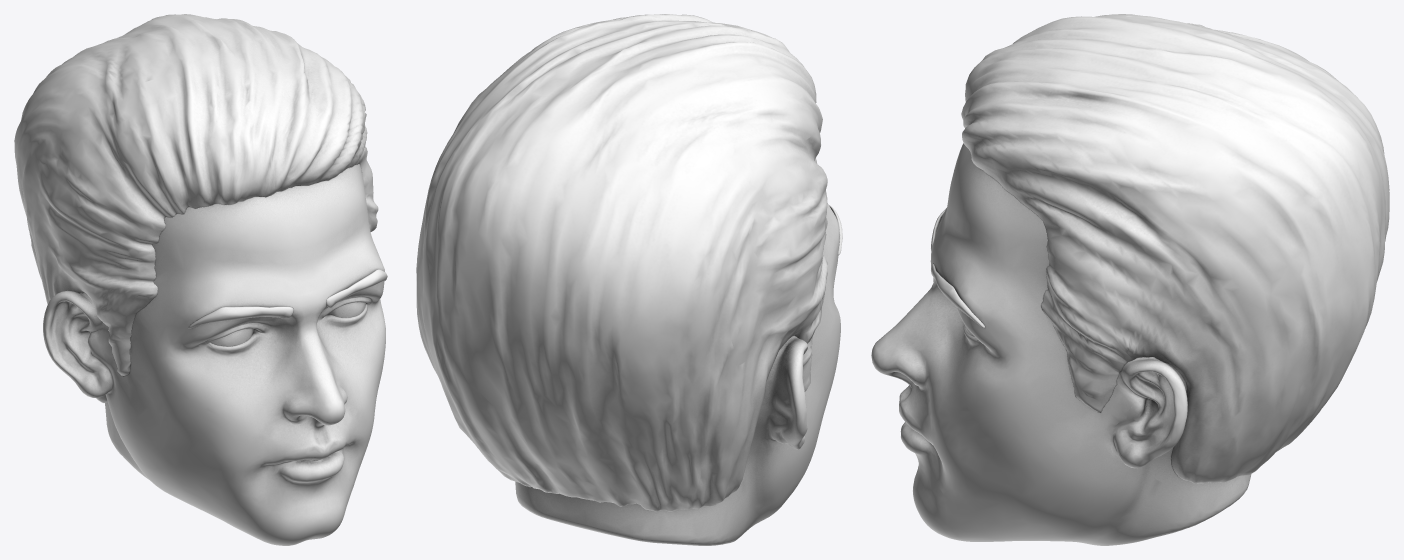
The picture shows the model from 3 angles, left to right: view 1: azimuth 30°, elevation 25°; view 2: azimuth 150°, elevation 25°; view 3: azimuth 270°, elevation 25°; orthographic projection. The views are drawn at different scales.
Parts seen in each view (by area): view 1: Head; view 2: Head; view 3: Head.
Boxes of the visible parts, box(x1,y1,x2,y2) form: Head: box(14, 14, 387, 545); Head: box(416, 14, 842, 545); Head: box(871, 14, 1389, 545).
Size of the model in its own units: 0.2566 by 0.3464 by 0.3309.
1 material, 1 textured.
